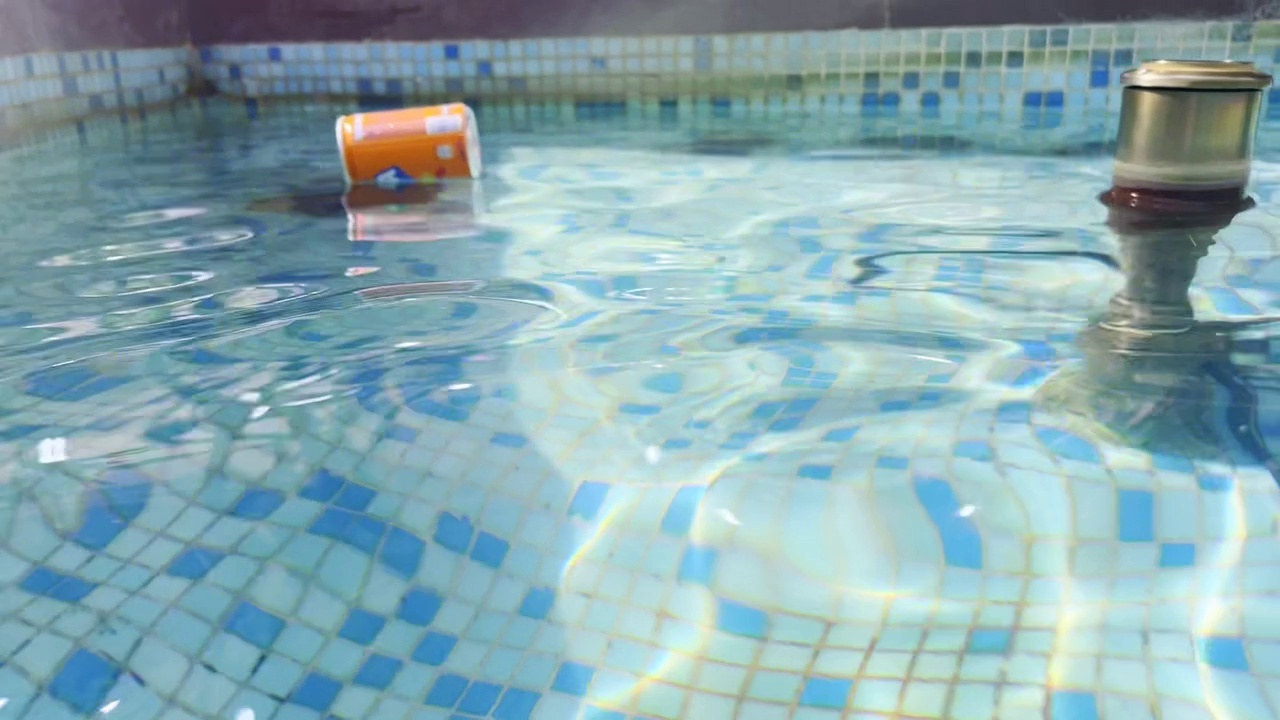debris: (323, 96, 484, 186)
